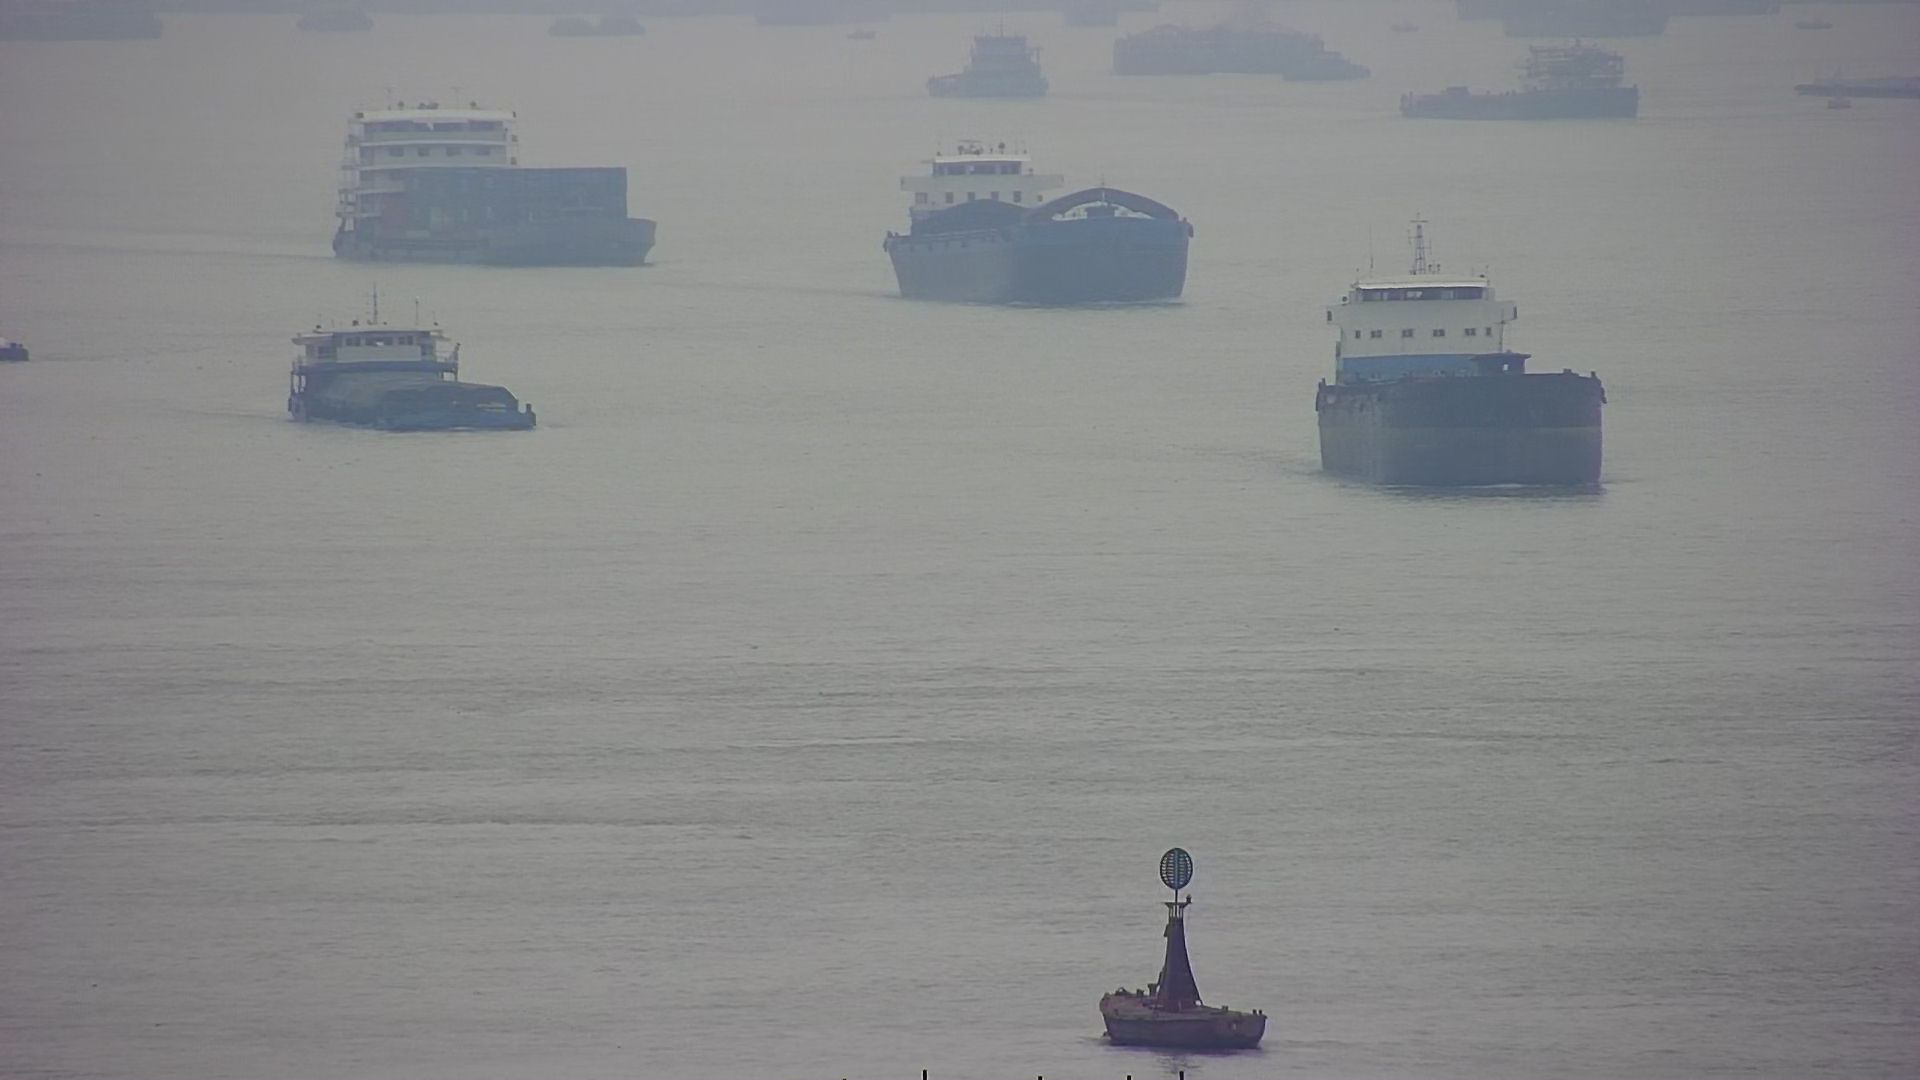boat: (1092, 837, 1271, 1055)
ship: (1319, 255, 1605, 498), (323, 95, 658, 274), (885, 146, 1195, 305), (287, 297, 539, 436)
